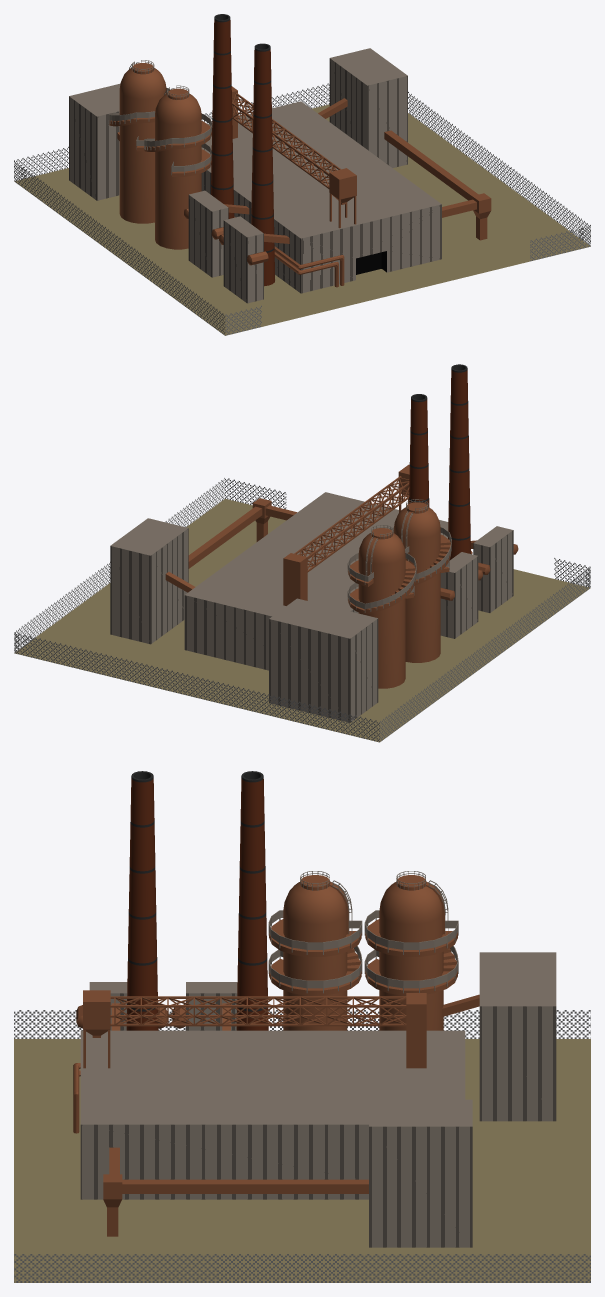
Rendered from CopperRefinery.fbx.
3 renders of one model, top to bottom at view 1: azimuth 30°, elevation 25°; view 2: azimuth 150°, elevation 25°; view 3: azimuth 270°, elevation 25°, orthographic. The views are drawn at different scales.
Visible parts, largest first — view 1: CopperRefinery; view 2: CopperRefinery; view 3: CopperRefinery.
Boxes of the visible parts, box(x1,y1,x2,y2) form: CopperRefinery: box(14, 14, 590, 335); CopperRefinery: box(14, 364, 590, 742); CopperRefinery: box(14, 771, 590, 1282).
Size of the model in its own units: 1800 by 1100 by 1800.
